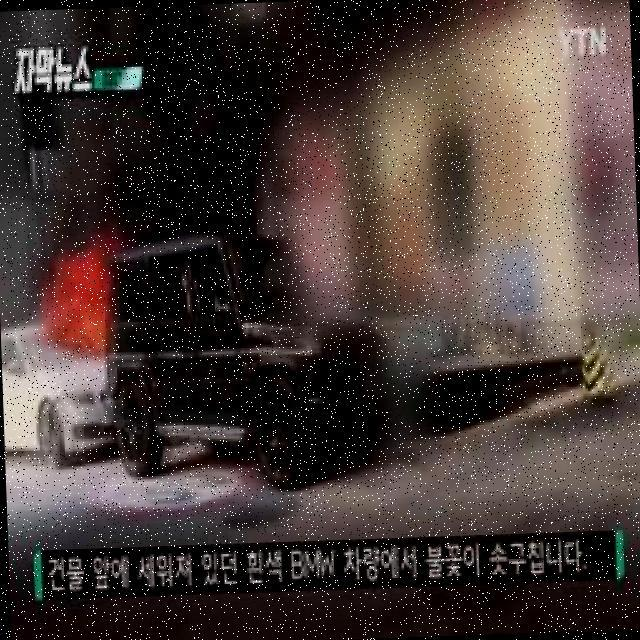Fire: (62, 279, 112, 350)
